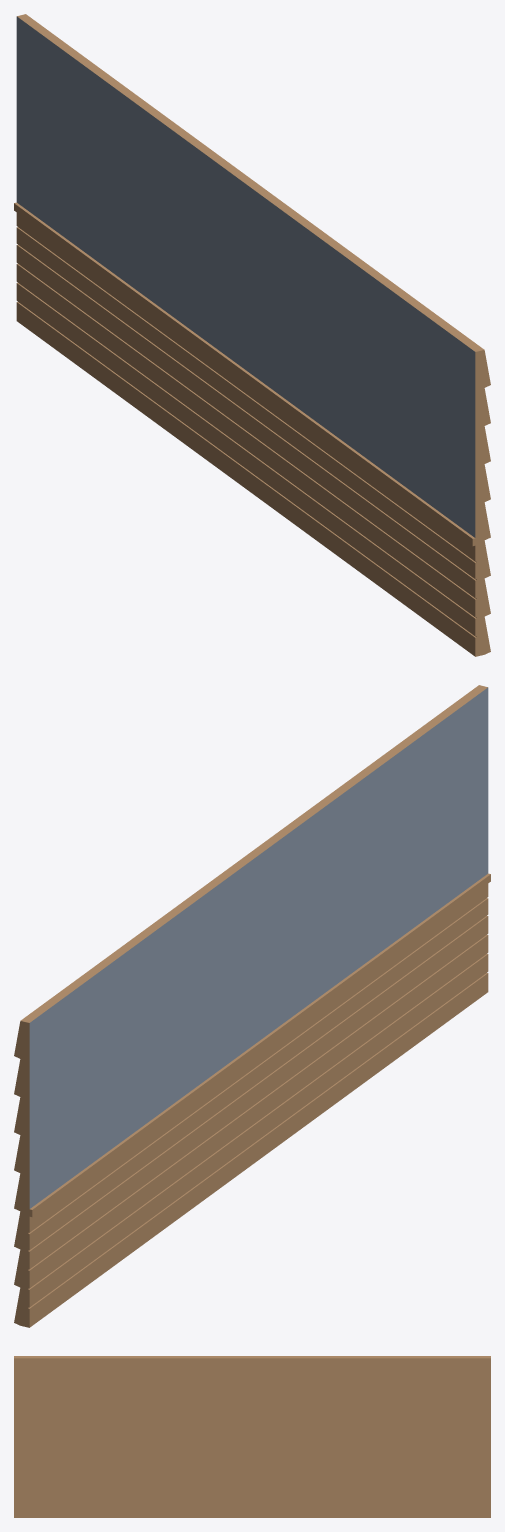
The model's file is Large Wall B-col.glb.
The picture shows the model from 3 angles, top to bottom: view 1: azimuth 30°, elevation 25°; view 2: azimuth 150°, elevation 25°; view 3: azimuth 270°, elevation 25°; orthographic projection. The views are drawn at different scales.
Parts seen in each view (by area): view 1: Large Wall B-col.001; view 2: Large Wall B-col.001; view 3: Large Wall B-col.001.
Boxes of the visible parts, x1,y1,x2,y2 form: Large Wall B-col.001: (14, 14, 490, 656); Large Wall B-col.001: (14, 685, 490, 1327); Large Wall B-col.001: (14, 1356, 490, 1517).
Size of the model in its own units: 0.1378 by 2.2 by 6.
